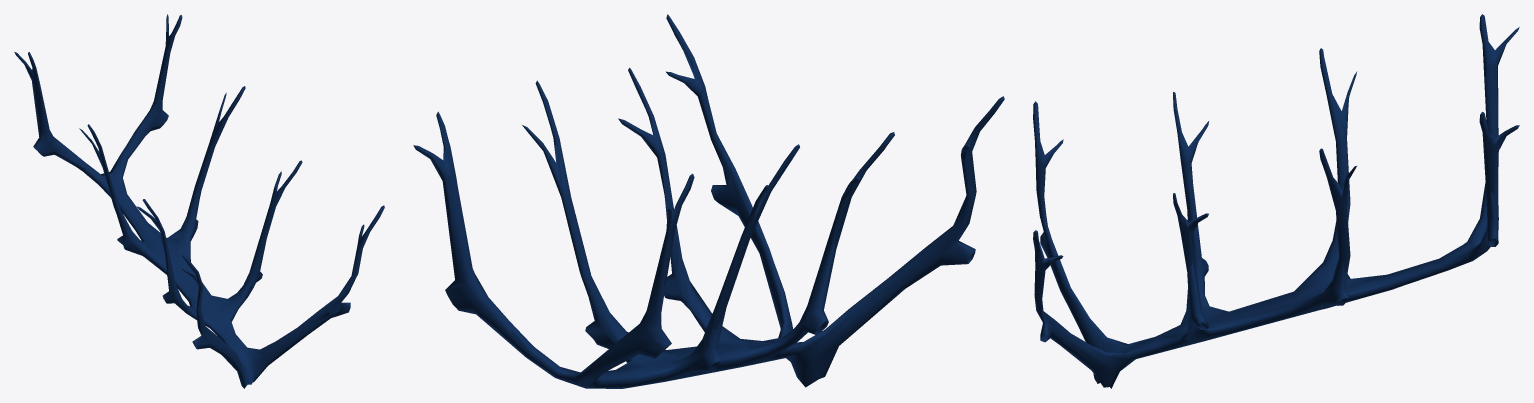
Rendered from vena intercostalis suprema.fbx.
3 renders of one model, left to right at view 1: azimuth 30°, elevation 25°; view 2: azimuth 150°, elevation 25°; view 3: azimuth 270°, elevation 25°, orthographic. The views are drawn at different scales.
Parts seen in each view (by area): view 1: vena intercostalis suprema, vena intercostalis suprema low; view 2: vena intercostalis suprema, vena intercostalis suprema low; view 3: vena intercostalis suprema, vena intercostalis suprema low.
Part boxes in pixels (x1,y1,x2,y2): vena intercostalis suprema: [14, 14, 384, 388]; vena intercostalis suprema low: [29, 21, 362, 386]; vena intercostalis suprema: [413, 14, 1004, 388]; vena intercostalis suprema low: [432, 24, 1002, 388]; vena intercostalis suprema: [1033, 14, 1519, 388]; vena intercostalis suprema low: [1034, 17, 1506, 388].
Size of the model in its own units: 6.72 by 7.94 by 10.68.
